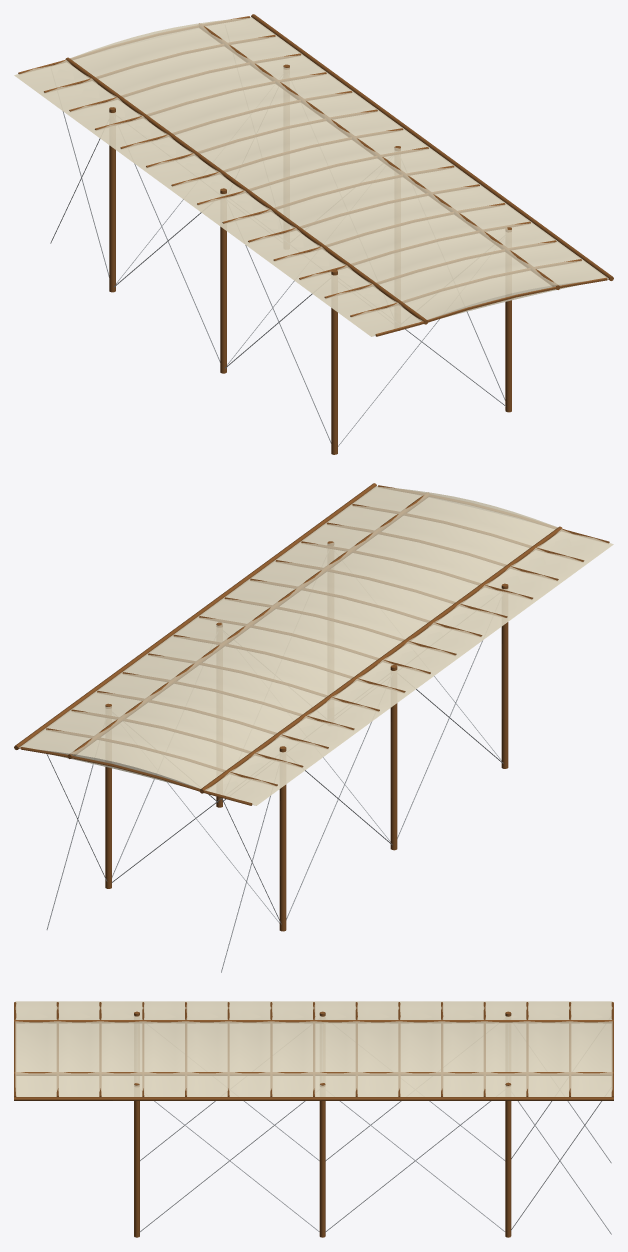
The model's file is aeroplan-krylo-vl.glb.
3 views of the same model, one above another, from view 1: azimuth 30°, elevation 25°; view 2: azimuth 150°, elevation 25°; view 3: azimuth 270°, elevation 25° (orthographic). The views are drawn at different scales.
Visible parts, largest first — view 1: aeroplan_krylo_vl; view 2: aeroplan_krylo_vl; view 3: aeroplan_krylo_vl.
Part boxes in pixels (x1=…): aeroplan_krylo_vl: x1=14, y1=14, x2=613, y2=454; aeroplan_krylo_vl: x1=14, y1=483, x2=613, y2=972; aeroplan_krylo_vl: x1=14, y1=1001, x2=613, y2=1237.
Size of the model in its own units: 2.01 by 1.49 by 5.17.
